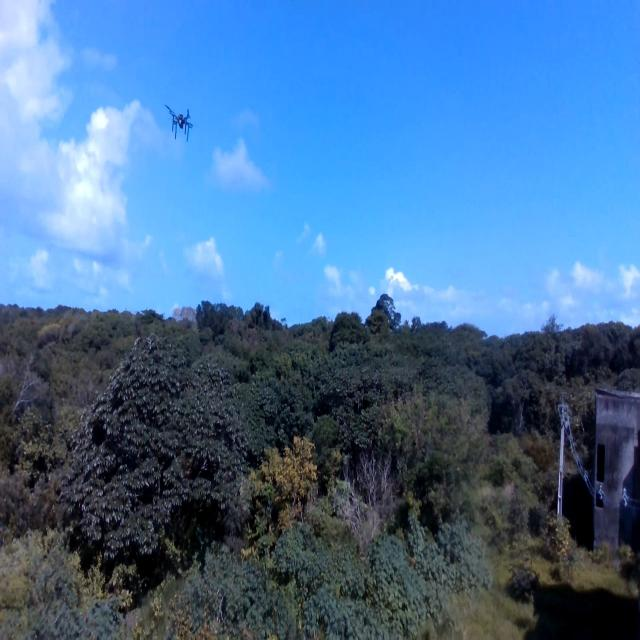-uav-: (162, 96, 199, 147)
